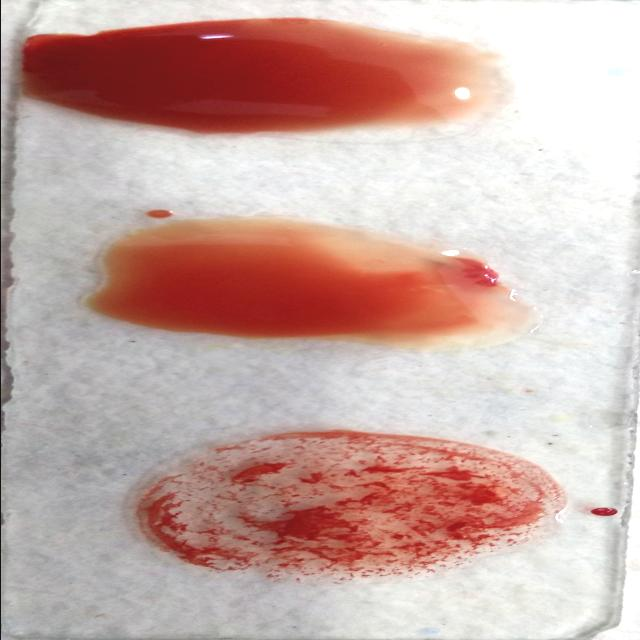D: (119, 433, 570, 577)
